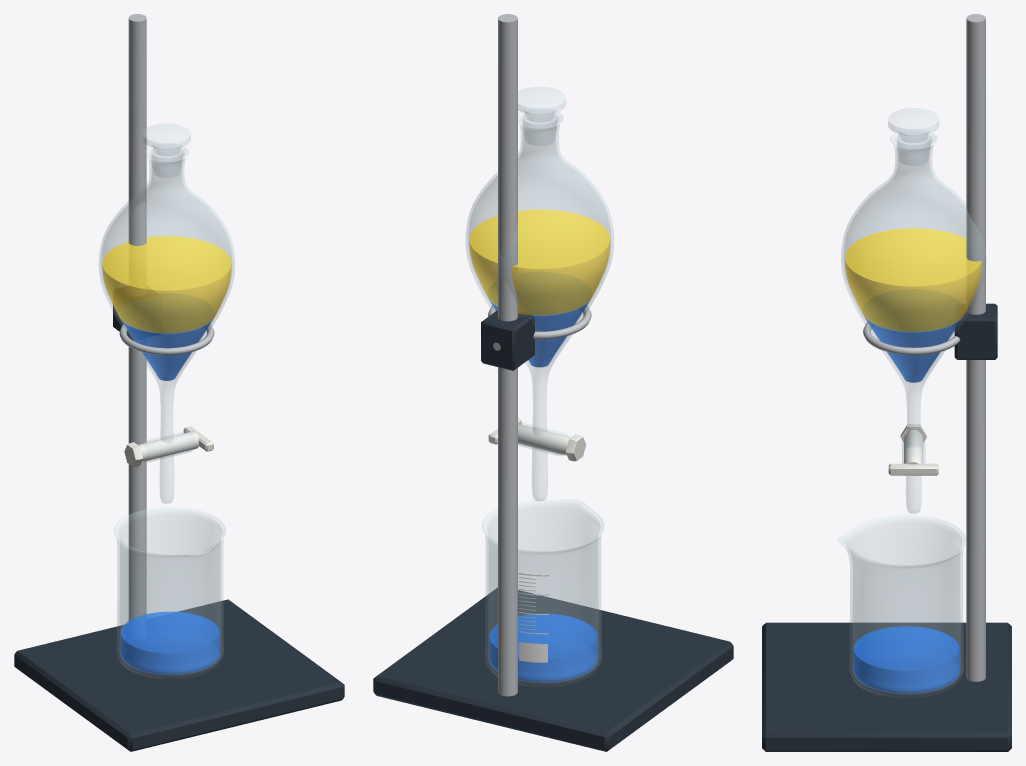
The model's file is separatory-funnel.glb.
The picture shows the model from 3 angles, left to right: view 1: azimuth 30°, elevation 25°; view 2: azimuth 150°, elevation 25°; view 3: azimuth 270°, elevation 25°; orthographic projection. The views are drawn at different scales.
Visible parts, largest first — view 1: Separatory_Funnel, Stopper, Stopcock; view 2: Separatory_Funnel, Stopper, Stopcock; view 3: Separatory_Funnel, Stopper, Stopcock.
Part boxes in pixels (left/top/right/bottom): Separatory_Funnel: left=14, top=14, right=344, bottom=751; Stopper: left=143, top=123, right=190, bottom=177; Stopcock: left=124, top=426, right=213, bottom=466; Separatory_Funnel: left=373, top=14, right=733, bottom=751; Stopper: left=518, top=87, right=565, bottom=145; Stopcock: left=488, top=418, right=586, bottom=461; Separatory_Funnel: left=762, top=14, right=1011, bottom=751; Stopper: left=888, top=108, right=939, bottom=165; Stopcock: left=888, top=424, right=938, bottom=475.
Size of the model in its own units: 0.15 by 0.42 by 0.14.
Materials: 7 (1 with a texture image).
